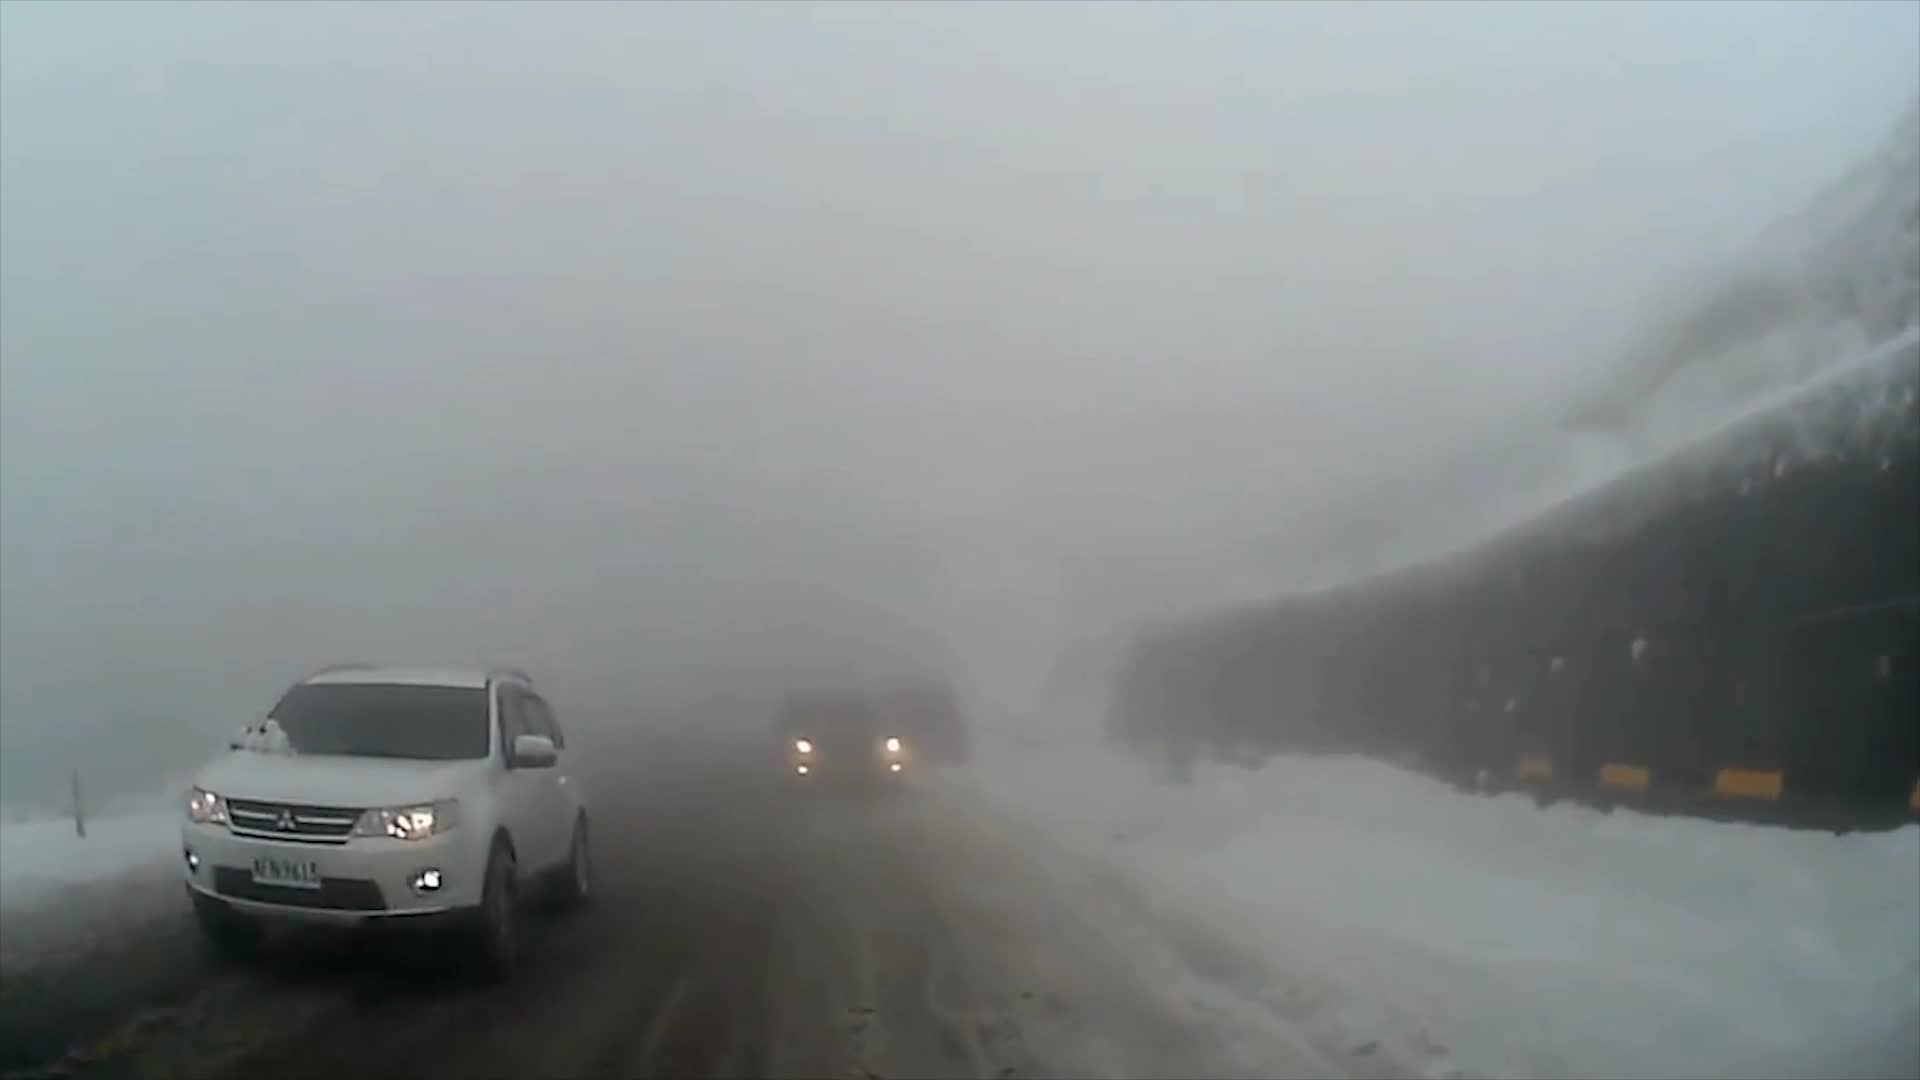vehicle: (171, 661, 595, 965), (764, 688, 909, 804)
